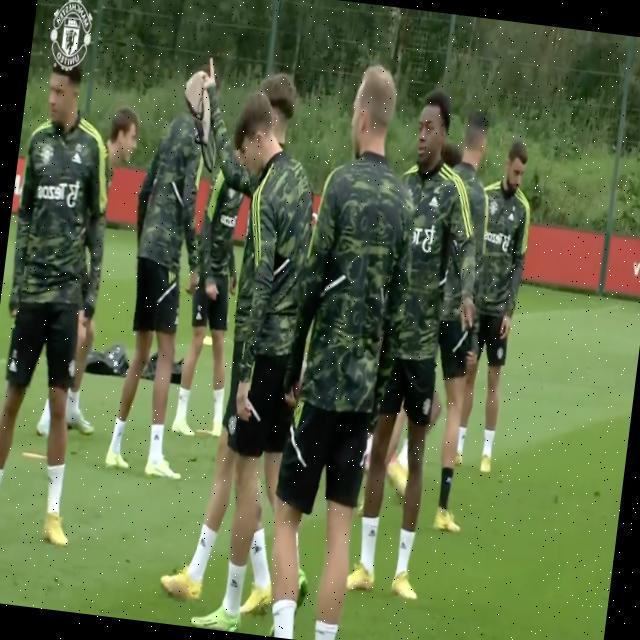Adidas: (426, 193, 440, 212), (228, 574, 240, 589), (251, 540, 263, 555), (366, 525, 378, 540), (71, 151, 83, 166), (8, 358, 18, 372)
